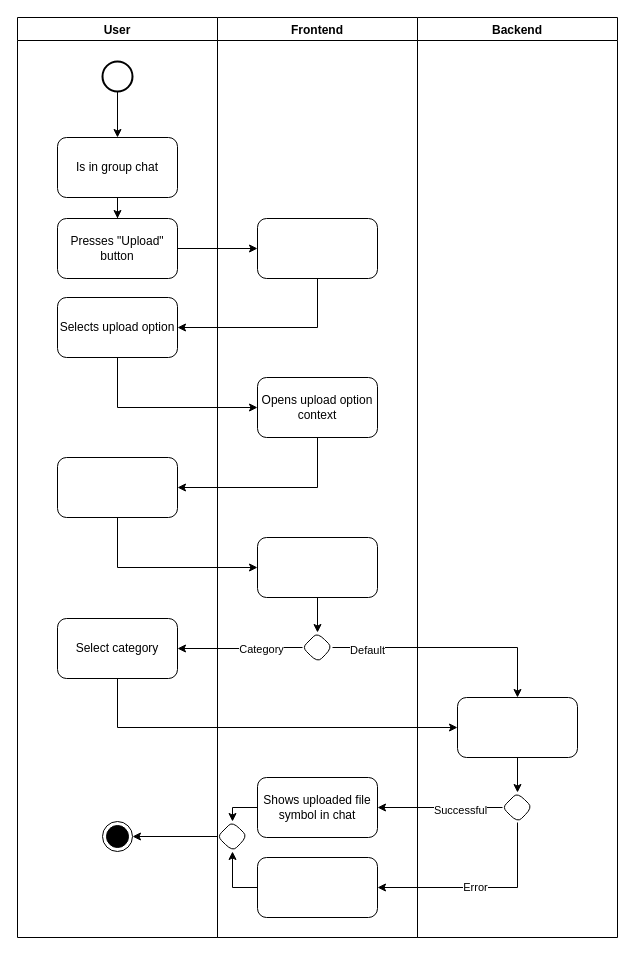
The diagram is 635 pixels wide and 955 high, and some of its shapes have lost their labels. Each missing label, with the centre of its shape:
Asks user to place upload in a category (or default): the point at 317,567
Chooses required file/data: the point at 117,487
Saves file/data in DB: the point at 517,727
Shows error (message) for uploading user: the point at 317,887
Shows upload type options: the point at 317,248
